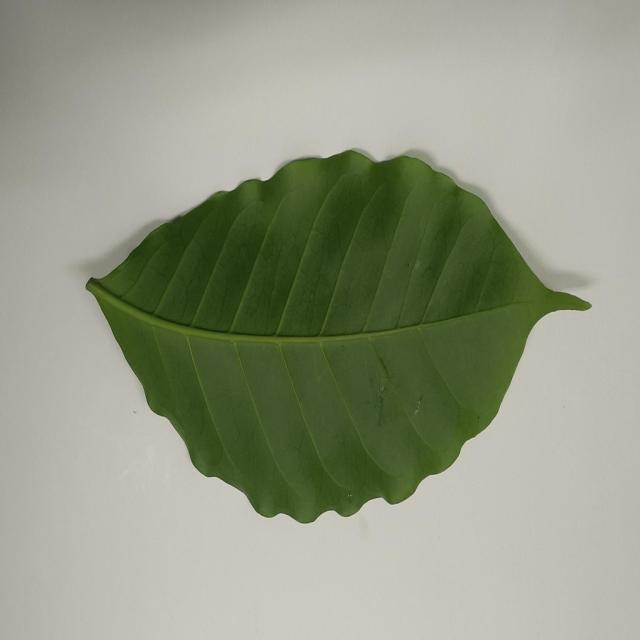Sanas: (85, 150, 592, 526)
